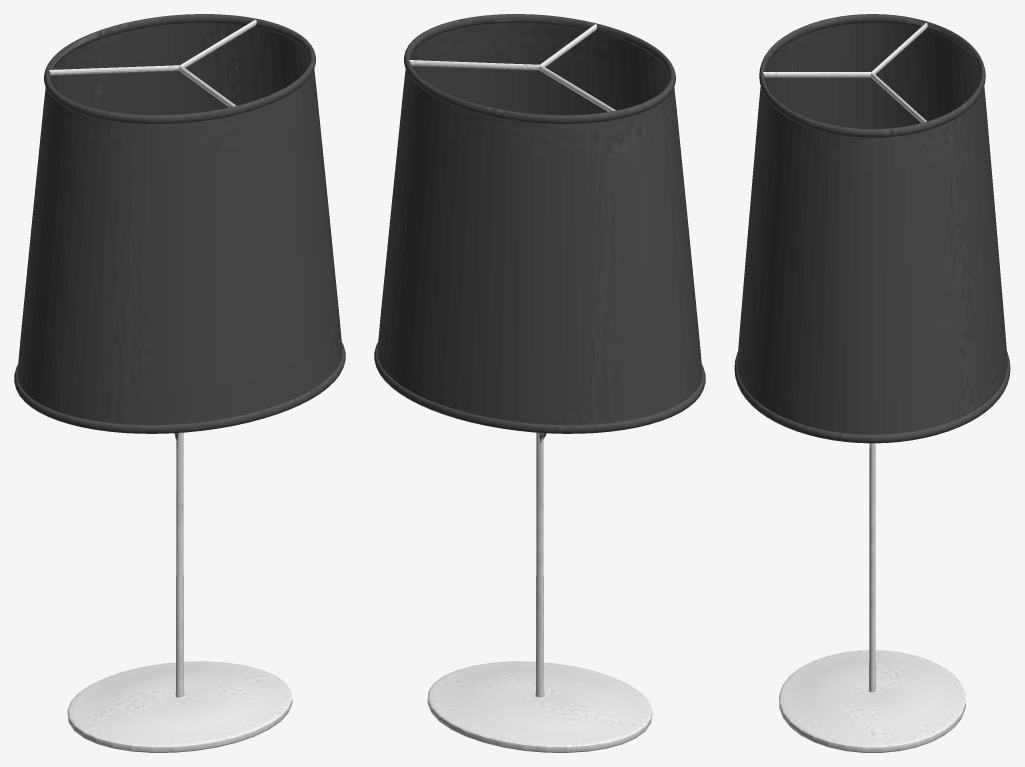
File: lamp_0.glb
The picture shows the model from 3 angles, left to right: view 1: azimuth 30°, elevation 25°; view 2: azimuth 150°, elevation 25°; view 3: azimuth 270°, elevation 25°; orthographic projection.
Parts seen in each view (by area): view 1: lamp_0; view 2: lamp_0; view 3: lamp_0.
Boxes of the visible parts, x1,y1,x2,y2 form: lamp_0: (14, 14, 345, 752); lamp_0: (374, 14, 705, 752); lamp_0: (734, 14, 1010, 752).
Bounding box in the file's own units: 0.2786 × 0.5727 × 0.2262.
Materials: 1 (1 with a texture image).
